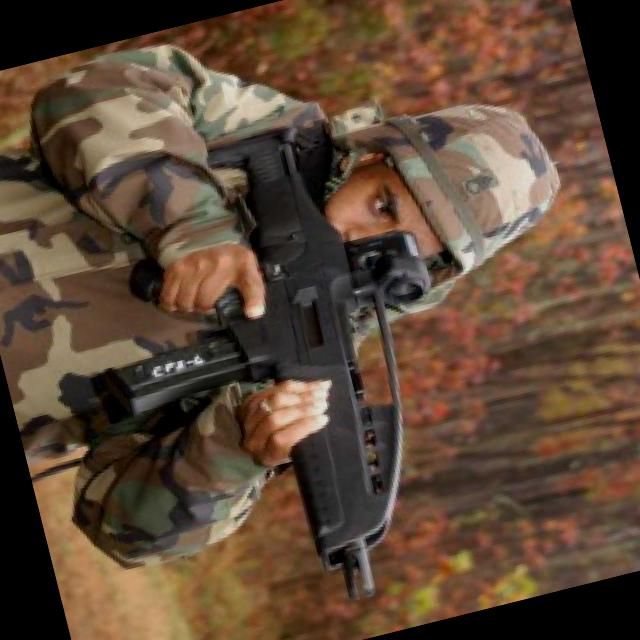long weapon: (113, 84, 501, 614)
